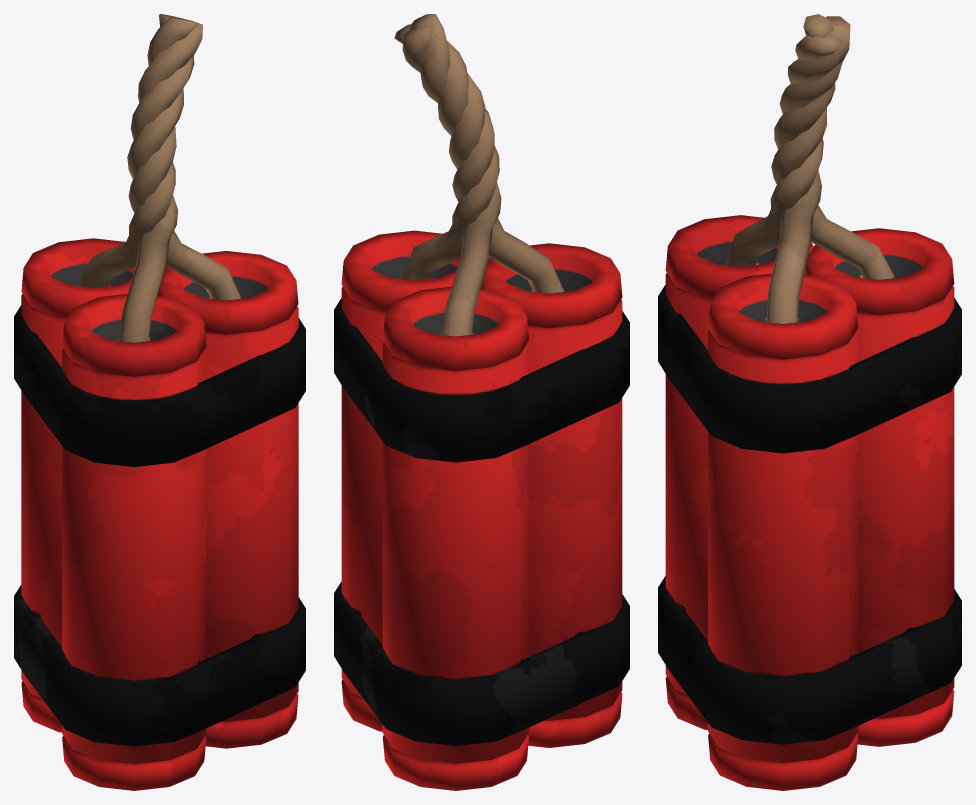
Rendered from LE_Dynamite.fbx.
The picture shows the model from 3 angles, left to right: view 1: azimuth 30°, elevation 25°; view 2: azimuth 150°, elevation 25°; view 3: azimuth 270°, elevation 25°; orthographic projection. The views are drawn at different scales.
Parts seen in each view (by area): view 1: LE_Dynamite; view 2: LE_Dynamite; view 3: LE_Dynamite.
Boxes of the visible parts, x1,y1,x2,y2 form: LE_Dynamite: (14, 14, 305, 790); LE_Dynamite: (334, 14, 629, 790); LE_Dynamite: (658, 14, 961, 790).
Bounding box in the file's own units: 142 × 379 × 143.
Materials: 1 (1 with a texture image).
